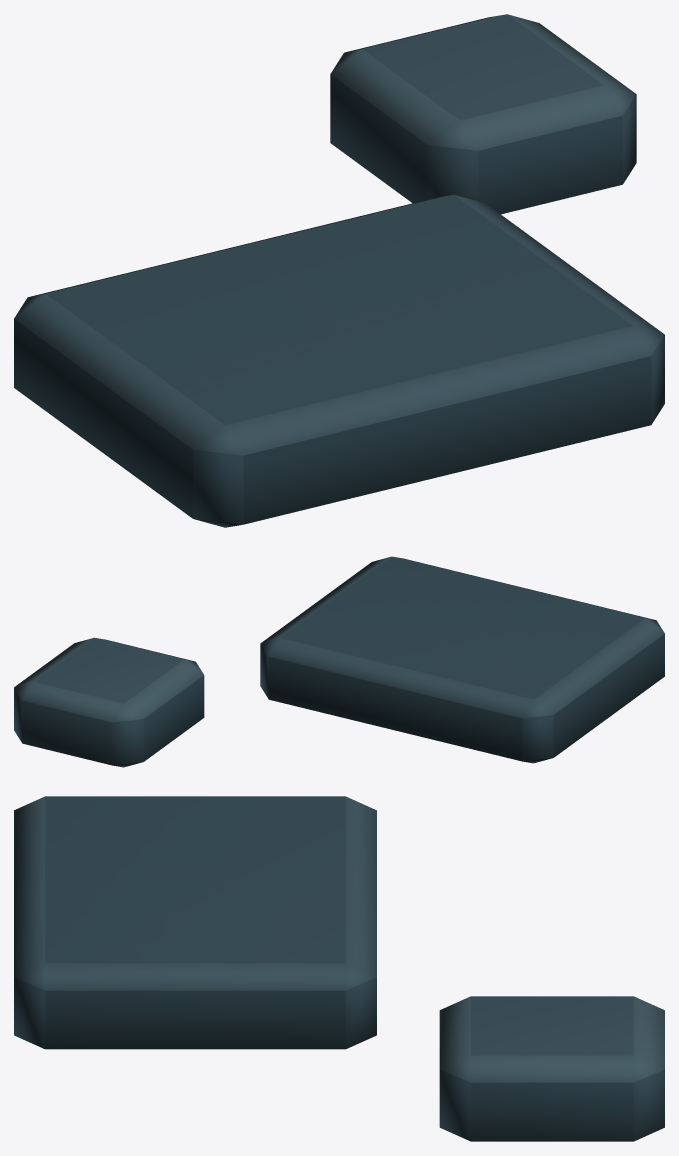
File: stone_path_12.fbx
The picture shows the model from 3 angles, top to bottom: view 1: azimuth 30°, elevation 25°; view 2: azimuth 150°, elevation 25°; view 3: azimuth 270°, elevation 25°; orthographic projection. The views are drawn at different scales.
Parts seen in each view (by area): view 1: stone_path_12; view 2: stone_path_12; view 3: stone_path_12.
Boxes of the visible parts, x1,y1,x2,y2 form: stone_path_12: (14,14,664,527); stone_path_12: (14,556,664,767); stone_path_12: (14,796,664,1141).
Bounding box in the file's own units: 130 × 18.28 × 125.
